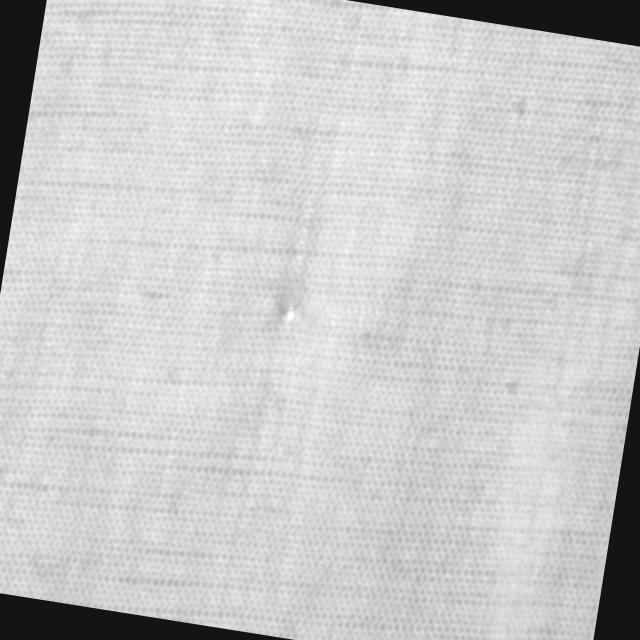hole: (269, 288, 306, 330)
